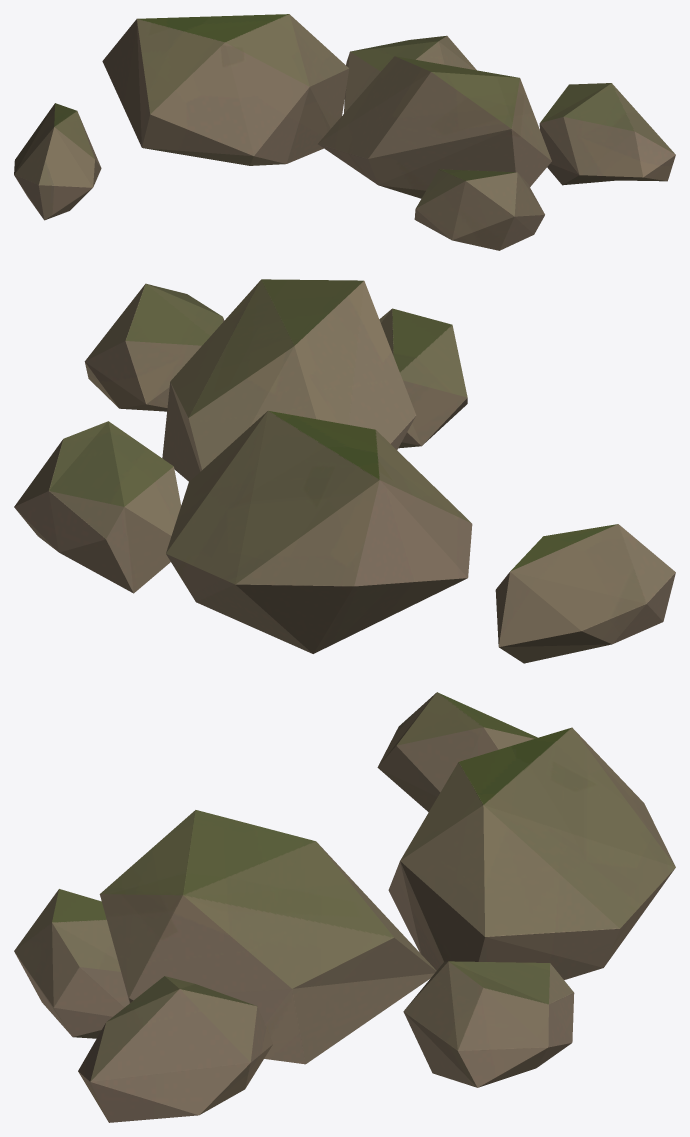
File: SM_Env_Rock_Small_Pile_02.glb
3 renders of one model, top to bottom at view 1: azimuth 30°, elevation 25°; view 2: azimuth 150°, elevation 25°; view 3: azimuth 270°, elevation 25°, orthographic. The views are drawn at different scales.
Parts seen in each view (by area): view 1: SM_Env_Rock_Small_Pile_02; view 2: SM_Env_Rock_Small_Pile_02; view 3: SM_Env_Rock_Small_Pile_02.
Part boxes in pixels (x1,y1,x2,y2): SM_Env_Rock_Small_Pile_02: [14, 14, 675, 250]; SM_Env_Rock_Small_Pile_02: [14, 279, 675, 663]; SM_Env_Rock_Small_Pile_02: [14, 692, 675, 1122].
Bounding box in the file's own units: 0.7495 × 0.2147 × 0.6099.
1 material, 1 textured.
